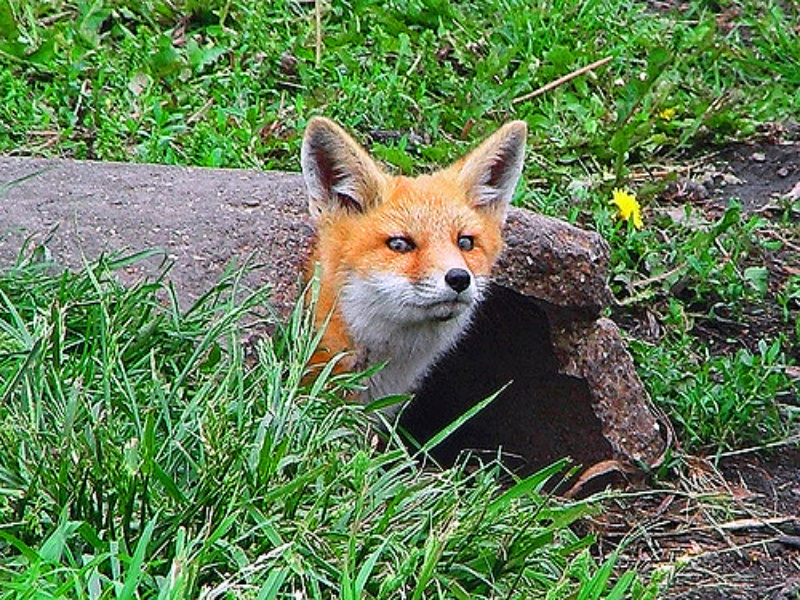fox: (274, 108, 537, 464)
